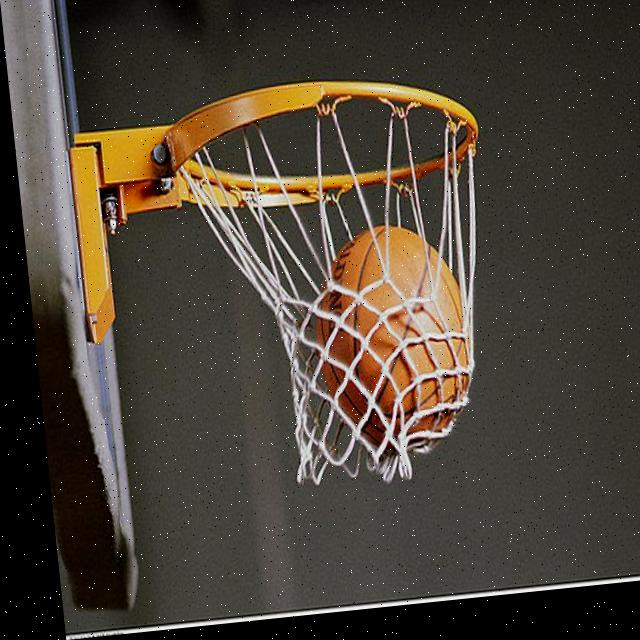basketball: (309, 220, 480, 454)
hoop: (167, 62, 513, 502), (167, 63, 513, 499)
